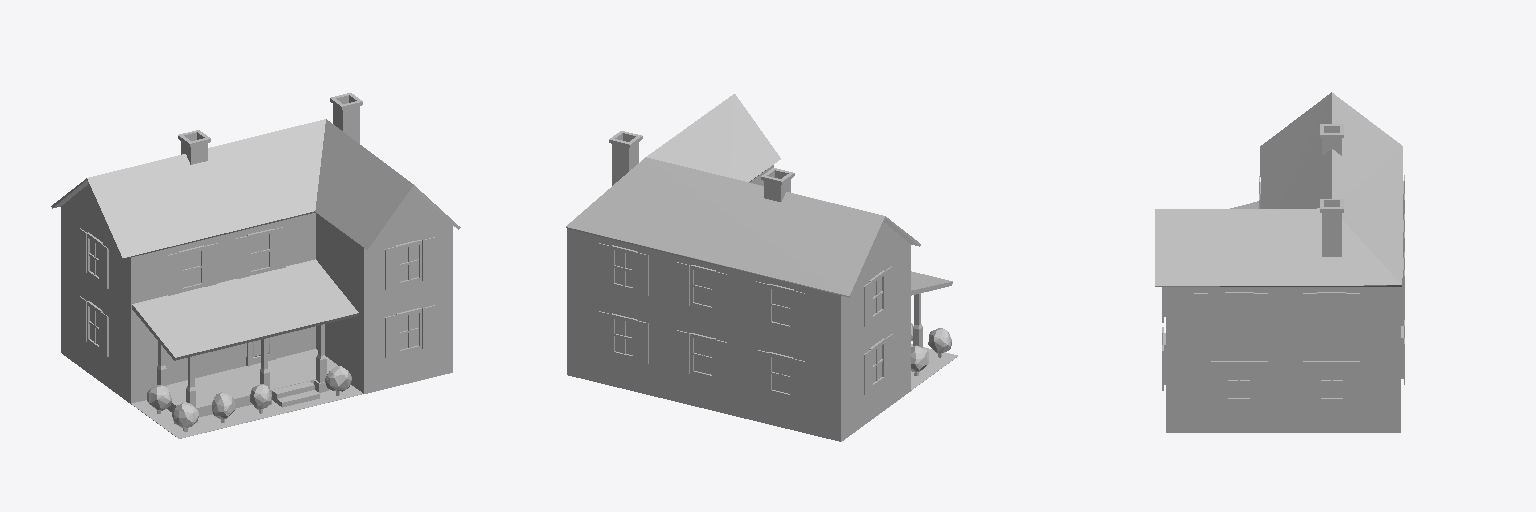
The model's file is house.obj.
3 renders of one model, left to right at view 1: azimuth 30°, elevation 25°; view 2: azimuth 150°, elevation 25°; view 3: azimuth 270°, elevation 25°, orthographic.
Parts seen in each view (by area): view 1: FarmHouse; view 2: FarmHouse; view 3: FarmHouse.
Part boxes in pixels (bbox=[...]): FarmHouse: bbox=[51, 93, 460, 438]; FarmHouse: bbox=[566, 94, 957, 441]; FarmHouse: bbox=[1155, 92, 1404, 432].
Size of the model in its own units: 25.34 by 18.43 by 19.12.